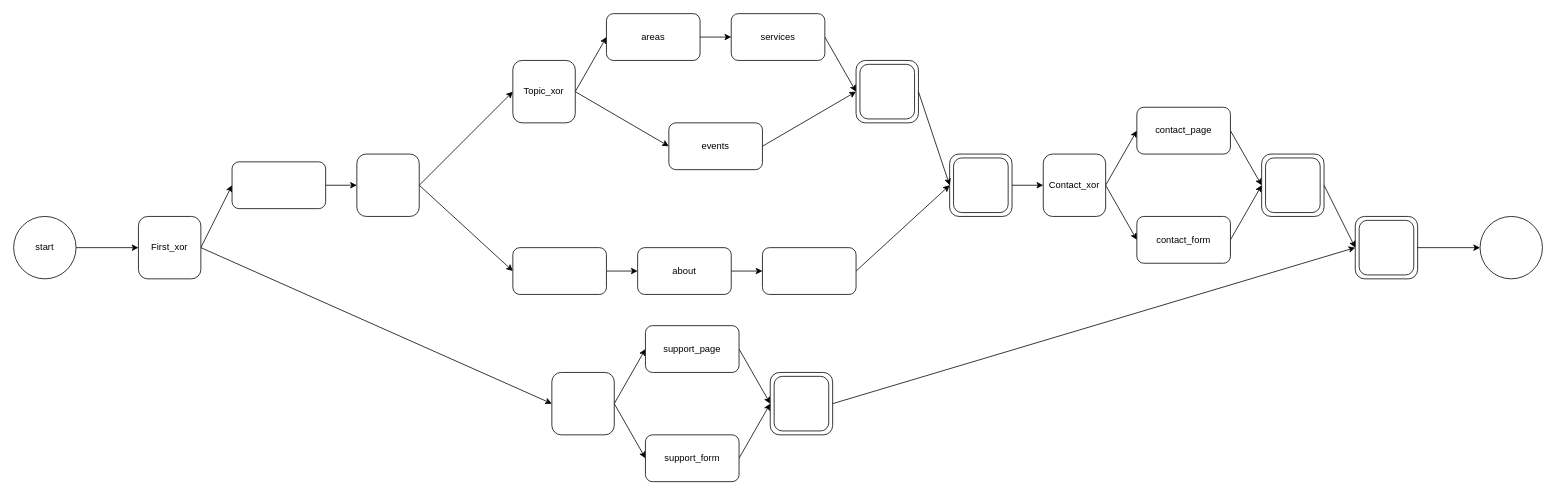
Image size: 1556x495. Some labels were removed from this diagram. Here are the shapes that lost their labels. From the top down, the centre of each, then its label:
[278,185]: explore
[387,184]: Browse_xor
[1510,247]: end
[559,270]: guide
[809,270]: people
[582,403]: Support_xor
